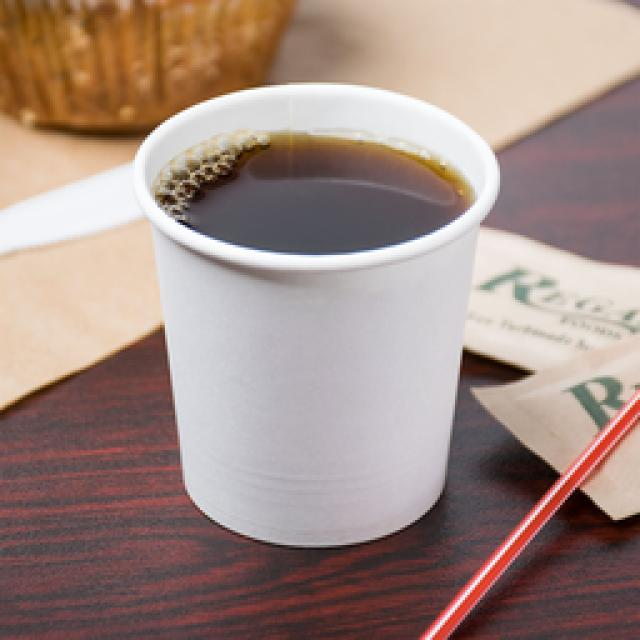paper_cups: (143, 82, 503, 551)
